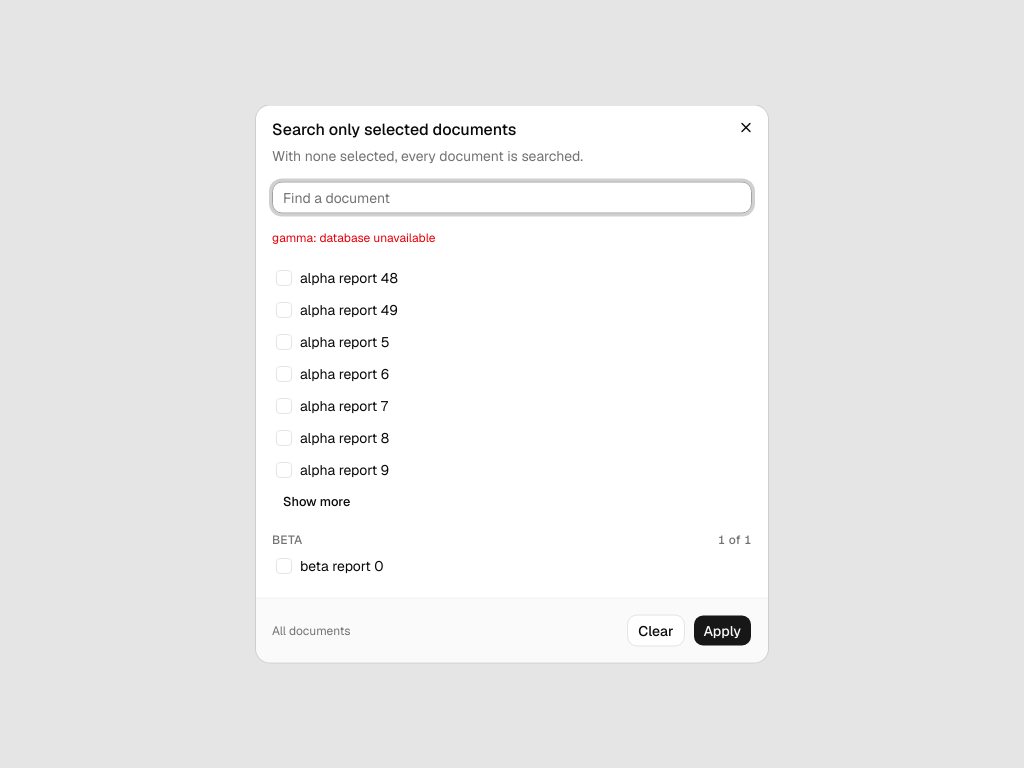
Scenario: FilterDialog › pages each database on its own, whatever another's state
(page scrolled)
Expected: the text "gamma: database unavailable" is shown, x1=272 y1=230 x2=436 y2=246
Click the button "Show more" at (317, 502), box x1=272 y1=488 x2=361 y2=516
(page scrolled)
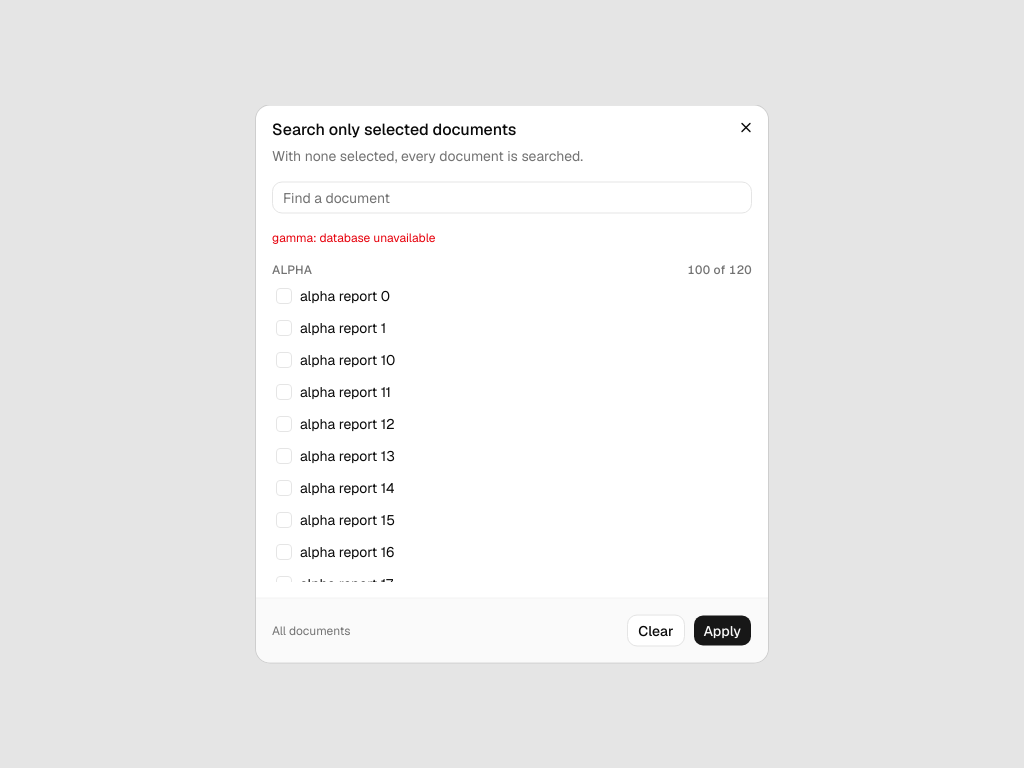
Expected: the text "100 of 120" is shown, x1=687 y1=262 x2=752 y2=278
